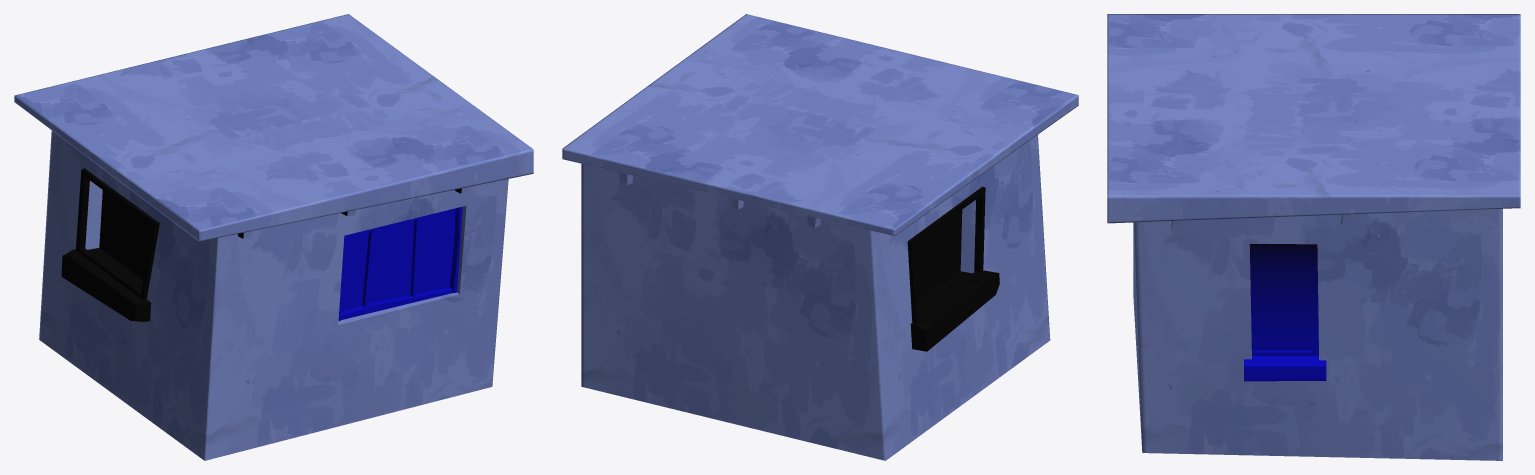
File: V_building_Stair_1.FBX
The picture shows the model from 3 angles, left to right: view 1: azimuth 30°, elevation 25°; view 2: azimuth 150°, elevation 25°; view 3: azimuth 270°, elevation 25°; orthographic projection. The views are drawn at different scales.
Visible parts, largest first — view 1: Box085; view 2: Box085; view 3: Box085.
Boxes of the visible parts, x1,y1,x2,y2 form: Box085: (14, 14, 533, 460); Box085: (562, 14, 1078, 460); Box085: (1107, 14, 1520, 460).
Size of the model in its own units: 1173 by 813 by 1124.
